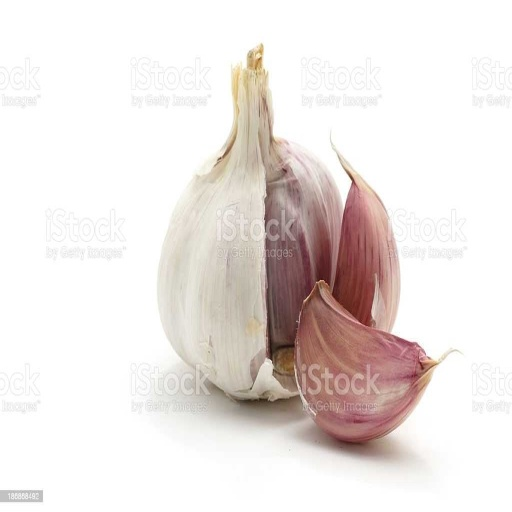Knoblauch: (157, 44, 343, 402)
